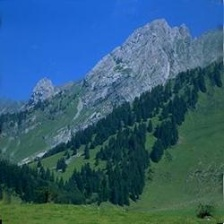neutral: (2, 3, 222, 222)
